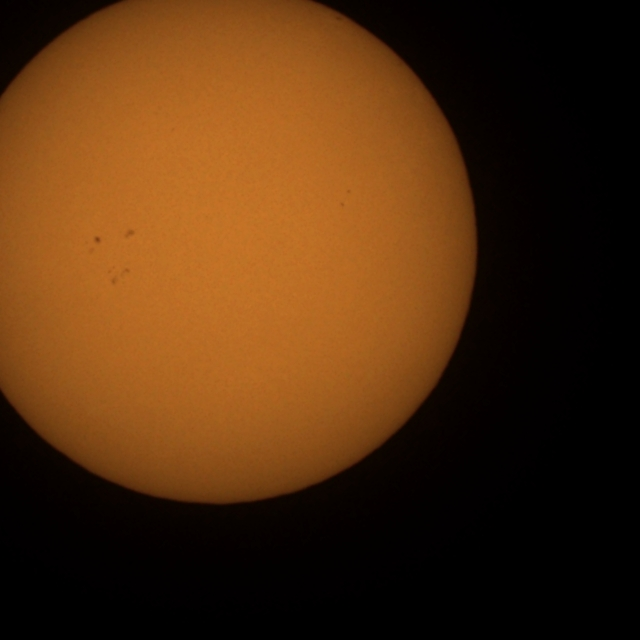sunspot: (108, 265, 131, 287), (122, 228, 136, 240), (338, 193, 348, 208), (93, 235, 102, 245), (338, 200, 346, 208), (346, 188, 352, 194)
